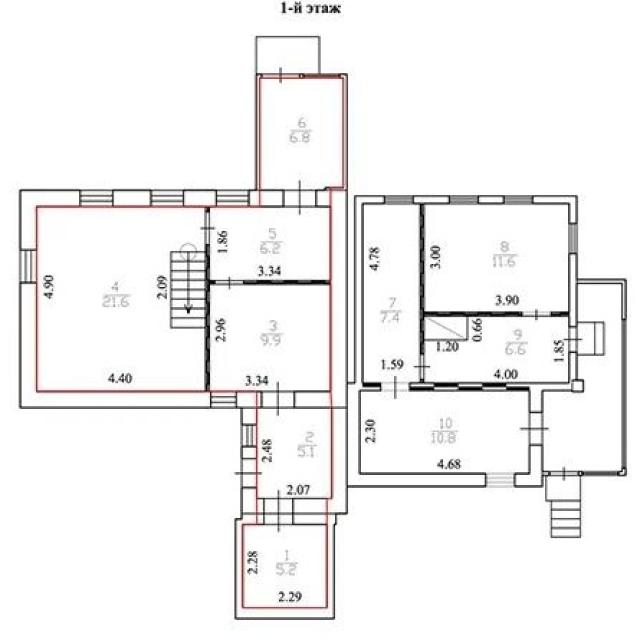Corridors: (544, 285, 621, 470), (211, 286, 329, 389), (426, 318, 567, 381), (262, 80, 341, 187), (211, 208, 329, 279), (259, 409, 330, 497)
Doors: (264, 487, 293, 534), (261, 380, 295, 417), (284, 179, 316, 216), (518, 414, 551, 446), (232, 458, 264, 488), (263, 66, 302, 85), (381, 375, 409, 401), (561, 326, 586, 352), (523, 306, 552, 325), (199, 212, 216, 244), (549, 465, 579, 483), (412, 355, 433, 380), (215, 275, 244, 293)
LBwalls: (19, 282, 210, 410), (346, 382, 484, 488), (328, 190, 348, 514), (18, 188, 80, 250), (514, 446, 544, 489), (292, 497, 327, 525), (114, 189, 152, 207), (294, 390, 332, 408), (250, 190, 284, 207), (185, 190, 216, 207), (241, 487, 256, 514), (238, 391, 261, 408), (528, 391, 542, 412), (241, 408, 258, 424), (316, 188, 330, 207), (257, 499, 265, 525), (240, 448, 258, 457)
Offices: (38, 208, 204, 390), (426, 206, 568, 311), (362, 393, 527, 471), (365, 207, 417, 381), (245, 526, 325, 607)
Stairs: (169, 250, 205, 329), (544, 477, 582, 539), (578, 321, 606, 356)
Walls: (551, 254, 628, 477), (419, 205, 523, 355), (234, 514, 338, 620), (409, 352, 578, 392), (354, 195, 385, 393), (302, 73, 347, 190), (533, 195, 578, 223), (204, 245, 210, 391), (255, 73, 262, 189), (244, 279, 330, 286), (414, 195, 449, 204), (479, 195, 504, 204), (204, 207, 210, 214)
Windows: (216, 189, 249, 207), (80, 189, 113, 207), (152, 189, 184, 207), (20, 251, 37, 283), (485, 472, 514, 488), (211, 391, 237, 408), (241, 424, 257, 447), (569, 223, 578, 254), (449, 195, 478, 204), (504, 195, 533, 204), (385, 195, 413, 204)
